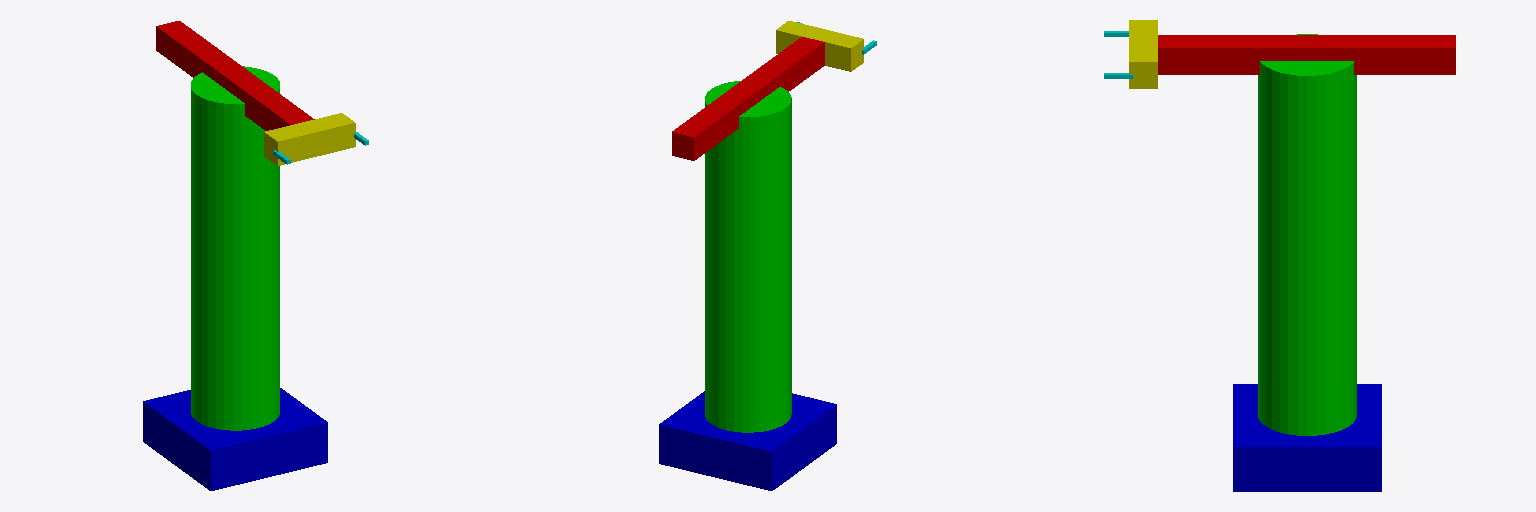
robot.urdf — simple_gripper:
<robot name="simple_gripper">

  <material name="blue">
    <color rgba="0 0 .8 1"/>
  </material>
  <material name="red">
    <color rgba="0.8 0 0 1"/>
  </material>
  <material name="green">
    <color rgba="0 0.8 0 1"/>
  </material>
  <material name="yellow">
    <color rgba="0.8 0.8 0 1"/>
  </material>
  <material name="cyan">
    <color rgba="0 0.8 0.8 1"/>
  </material>

  
 <link name="root_link"/>

 <joint name="root_to_base" type="fixed">
    <parent link="root_link"/>
    <child link="base_link"/>
 </joint>

  <link name="base_link">
    <visual>
      <geometry>
        <box size="0.3 .3 .1"/>
      </geometry>
      <material name="blue"/>
    </visual>
    <collision>
      <geometry>
        <box size="0.3 .3 .1"/>
      </geometry>
    </collision>
    <inertial>
      <mass value="10"/>
      <inertia ixx="1.0" ixy="0.0" ixz="0.0" iyy="1.0" iyz="0.0" izz="1.0"/>
    </inertial>
  </link>

  <joint name="base_joint" type="continuous">
    <parent link="base_link"/>
    <child link="link_1"/>
    <axis xyz="0 0 1"/>
    <origin xyz="0 0 0.45"/>
  </joint>

  <link name="link_1">
    <visual>
      <geometry>
        <cylinder length="0.8" radius=".1"/>
      </geometry>
      <material name="green"/>
    </visual>
    <collision>
      <geometry>
        <cylinder length="0.8" radius=".1"/>
      </geometry>
    </collision>
    <inertial>
      <mass value="10"/>
      <inertia ixx="1.0" ixy="0.0" ixz="0.0" iyy="1.0" iyz="0.0" izz="1.0"/>
    </inertial>
  </link>


  <joint name="elbow_joint" type="revolute">
    <parent link="link_1"/>
    <child link="link_2"/>
    <limit effort="1000.0" lower="-0.6" upper="0.6" velocity="0.5"/>
    <origin xyz="0 0 0.4" rpy="1.571 0 0"/>
    <axis xyz="1 0 0"/> 
 </joint>
  
  <link name="link_2">
    <visual>
      <geometry>
        <box size="0.06 0.06 0.6"/>
      </geometry>
      <material name="red"/>
    </visual>
    <collision>
      <geometry>
        <cylinder length="0.6" radius=".06"/>
      </geometry>
    </collision>
    <inertial>
      <mass value="10"/>
      <inertia ixx="1.0" ixy="0.0" ixz="0.0" iyy="1.0" iyz="0.0" izz="1.0"/>
    </inertial>
  </link>

  <joint name="wrist_joint" type="continuous">
    <parent link="link_2"/>
    <child link="palm_link"/>
    <origin xyz="0 0 0.33"/>
    <axis xyz="0 0 1"/>
  </joint>

  <link name="palm_link">
    <visual>
      <geometry>
        <box size="0.2 .06 .06"/>
      </geometry>
      <material name="yellow"/>
    </visual>
    <collision>
      <geometry>
        <box size="0.2 .06 .06"/>
      </geometry>
    </collision>
    <inertial>
      <mass value="10"/>
      <inertia ixx="1.0" ixy="0.0" ixz="0.0" iyy="1.0" iyz="0.0" izz="1.0"/>
    </inertial>
  </link>

  <joint name="finger_1_joint" type="prismatic">
    <parent link="palm_link"/>
    <child link="finger_link_1"/>
    <limit effort="1000.0" lower="-0.02" upper="0.08" velocity="0.5"/>
    <origin rpy="0 1.571 0" xyz="-0.10 0 0.05"/>
    <axis xyz="0 0 1"/>
  </joint>

  <link name="finger_link_1">
    <visual>
      <geometry>
        <box size="0.06 .01 .01"/>
      </geometry>
      <material name="cyan"/>
    </visual>
    <collision>
      <geometry>
        <box size="0.06 .1 .1"/>
      </geometry>
    </collision>
    <inertial>
      <mass value="10"/>
      <inertia ixx="1.0" ixy="0.0" ixz="0.0" iyy="1.0" iyz="0.0" izz="1.0"/>
    </inertial>
  </link>

  <joint name="finger_2_joint" type="prismatic">
    <parent link="palm_link"/>
    <child link="finger_link_2"/>
    <limit effort="1000.0" lower="-0.08" upper="0.02" velocity="0.5"/>
    <origin rpy="0 1.571 0" xyz="0.10 0 0.05"/>
    <axis xyz="0 0 1"/>
  </joint>

  <link name="finger_link_2">
    <visual>
      <geometry>
        <box size="0.06 .01 .01"/>
      </geometry>
      <material name="cyan"/>
    </visual>
    <collision>
      <geometry>
        <box size="0.06 .1 .1"/>
      </geometry>
    </collision>
    <inertial>
      <mass value="10"/>
      <inertia ixx="1.0" ixy="0.0" ixz="0.0" iyy="1.0" iyz="0.0" izz="1.0"/>
    </inertial>
  </link>
</robot>

--- Render facts (derived) ---
The picture shows the robot from 3 angles, left to right: view 1: azimuth 30°, elevation 25°; view 2: azimuth 150°, elevation 25°; view 3: azimuth 270°, elevation 25°; orthographic projection.
Robot: simple_gripper — 7 links, 6 joints (1 revolute, 2 continuous, 2 prismatic, 1 fixed); root link root_link; default pose: every joint at zero.
Links seen in each view (by area): view 1: link_1, base_link, link_2, palm_link; view 2: link_1, base_link, link_2, palm_link; view 3: link_1, base_link, link_2, palm_link.
Boxes of the visible links, bbox=[...] form: link_1: bbox=[191, 66, 279, 430]; base_link: bbox=[143, 388, 327, 490]; link_2: bbox=[156, 21, 314, 130]; palm_link: bbox=[264, 113, 355, 165]; link_1: bbox=[705, 81, 791, 432]; base_link: bbox=[659, 391, 836, 490]; link_2: bbox=[672, 37, 824, 160]; palm_link: bbox=[776, 21, 863, 71]; link_1: bbox=[1258, 34, 1356, 435]; base_link: bbox=[1233, 384, 1381, 491]; link_2: bbox=[1158, 35, 1455, 74]; palm_link: bbox=[1129, 20, 1157, 88].
Size in the robot's own frame: 0.3 by 0.71 by 0.9301 metres.
Geometry: primitives only (box / cylinder / sphere), no mesh files.
